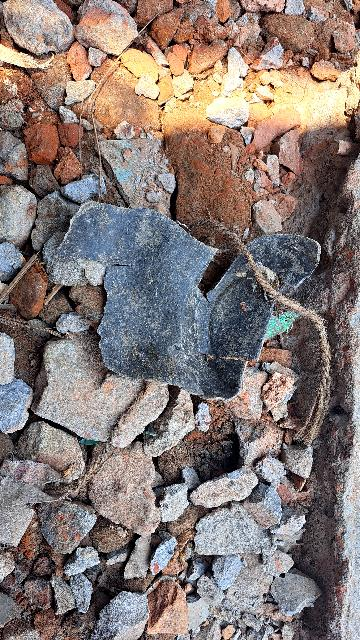hardplastic: (72, 188, 326, 405)
